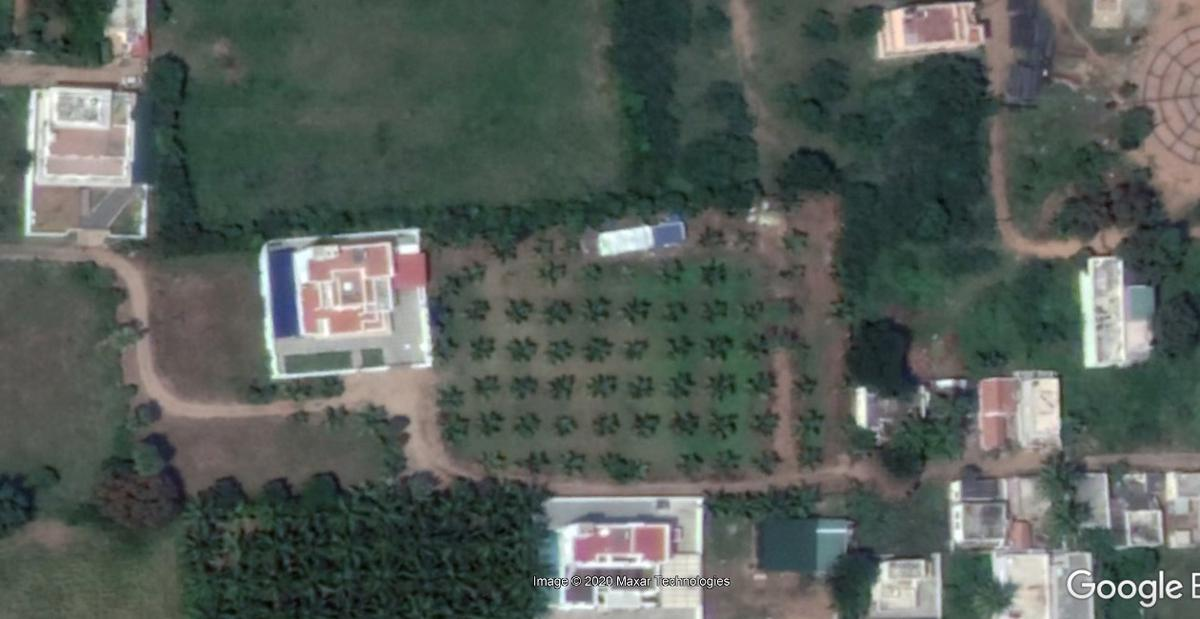coconut: (175, 493, 224, 542), (1033, 448, 1079, 498), (896, 408, 938, 452), (970, 577, 1012, 619), (429, 490, 470, 531), (782, 480, 824, 519), (325, 532, 369, 565), (435, 417, 474, 453), (741, 368, 778, 402), (701, 486, 738, 519), (529, 263, 568, 294), (509, 329, 537, 372), (364, 396, 398, 431), (471, 330, 499, 372), (750, 486, 784, 520), (664, 368, 697, 402), (652, 255, 687, 287), (502, 295, 537, 327), (434, 332, 465, 368), (778, 223, 814, 254), (580, 296, 611, 331), (478, 525, 509, 560), (658, 296, 687, 332), (583, 334, 612, 370), (700, 332, 732, 364), (620, 298, 656, 326), (544, 339, 575, 370), (625, 335, 655, 366), (663, 336, 693, 367), (469, 373, 499, 404), (244, 382, 275, 412), (458, 255, 492, 282), (743, 332, 777, 359), (434, 291, 458, 329), (710, 376, 739, 407), (489, 230, 520, 259), (591, 367, 619, 399), (505, 372, 534, 402), (711, 414, 741, 443), (557, 447, 586, 477), (675, 448, 707, 475), (728, 228, 760, 255), (824, 296, 857, 322), (700, 258, 729, 287), (793, 404, 823, 432), (623, 370, 650, 400), (550, 371, 575, 403), (323, 402, 348, 434), (633, 408, 660, 437), (694, 223, 723, 250), (700, 296, 730, 322), (461, 299, 494, 322), (544, 298, 571, 326), (510, 449, 546, 470), (285, 378, 311, 407), (437, 384, 466, 409), (755, 448, 784, 473), (717, 457, 746, 481), (580, 267, 609, 290), (753, 411, 778, 437), (797, 439, 822, 465), (320, 372, 347, 396), (519, 412, 544, 437), (592, 412, 616, 437), (674, 412, 698, 437), (600, 453, 635, 470), (739, 298, 761, 323), (479, 412, 500, 434), (553, 418, 576, 437), (800, 373, 815, 391)
